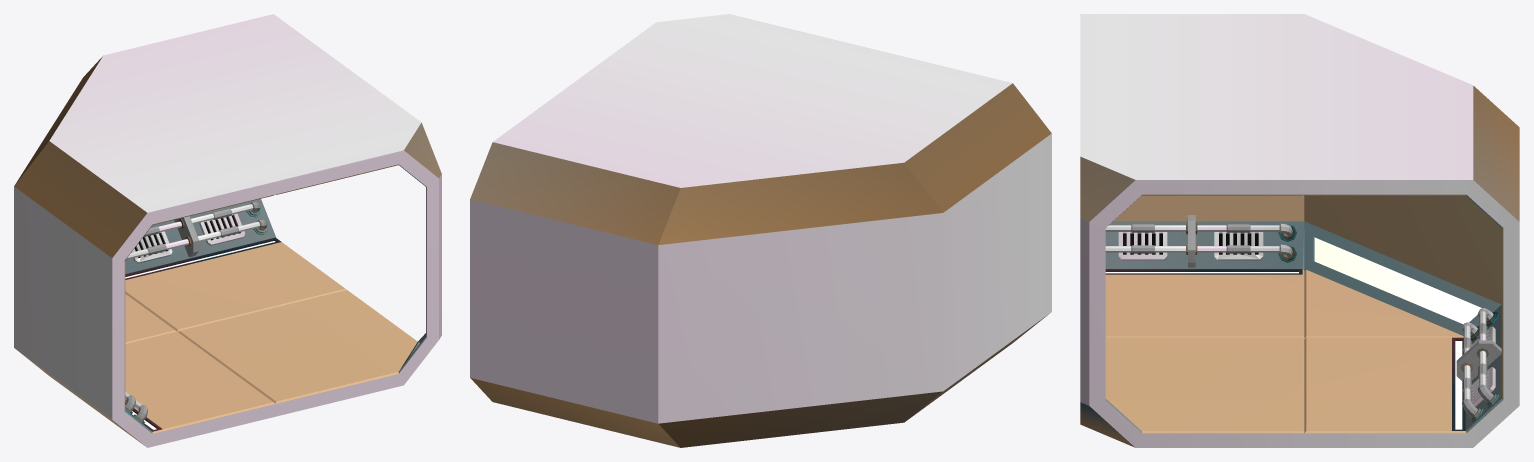
File: C_Turn90.fbx
The picture shows the model from 3 angles, left to right: view 1: azimuth 30°, elevation 25°; view 2: azimuth 150°, elevation 25°; view 3: azimuth 270°, elevation 25°; orthographic projection. The views are drawn at different scales.
Visible parts, largest first — view 1: C_Turn90; view 2: C_Turn90; view 3: C_Turn90.
Part boxes in pixels (box(x1,y1,x2,y2)): C_Turn90: box(14, 14, 441, 447); C_Turn90: box(470, 14, 1051, 447); C_Turn90: box(1080, 14, 1519, 447).
Bounding box in the file's own units: 490 × 330 × 490.
